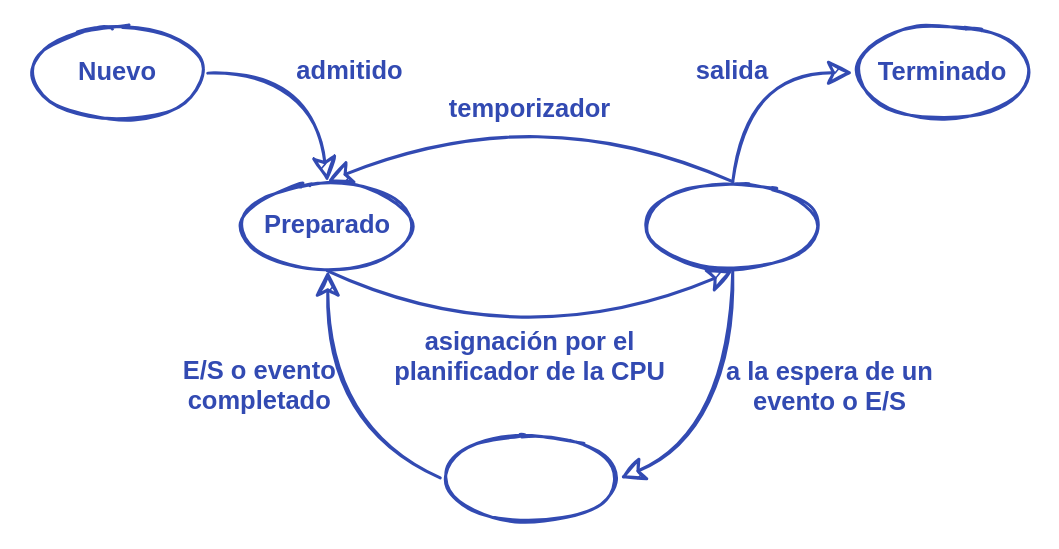
Image size: 1059x549. Some labels were removed from this diagram. The shapes that lost their labels are listed below. From the top down, each one's centre as x and y in pixels, then its label:
At point 732,225: "Ejecutando".
At point 529,477: "Esperando".
